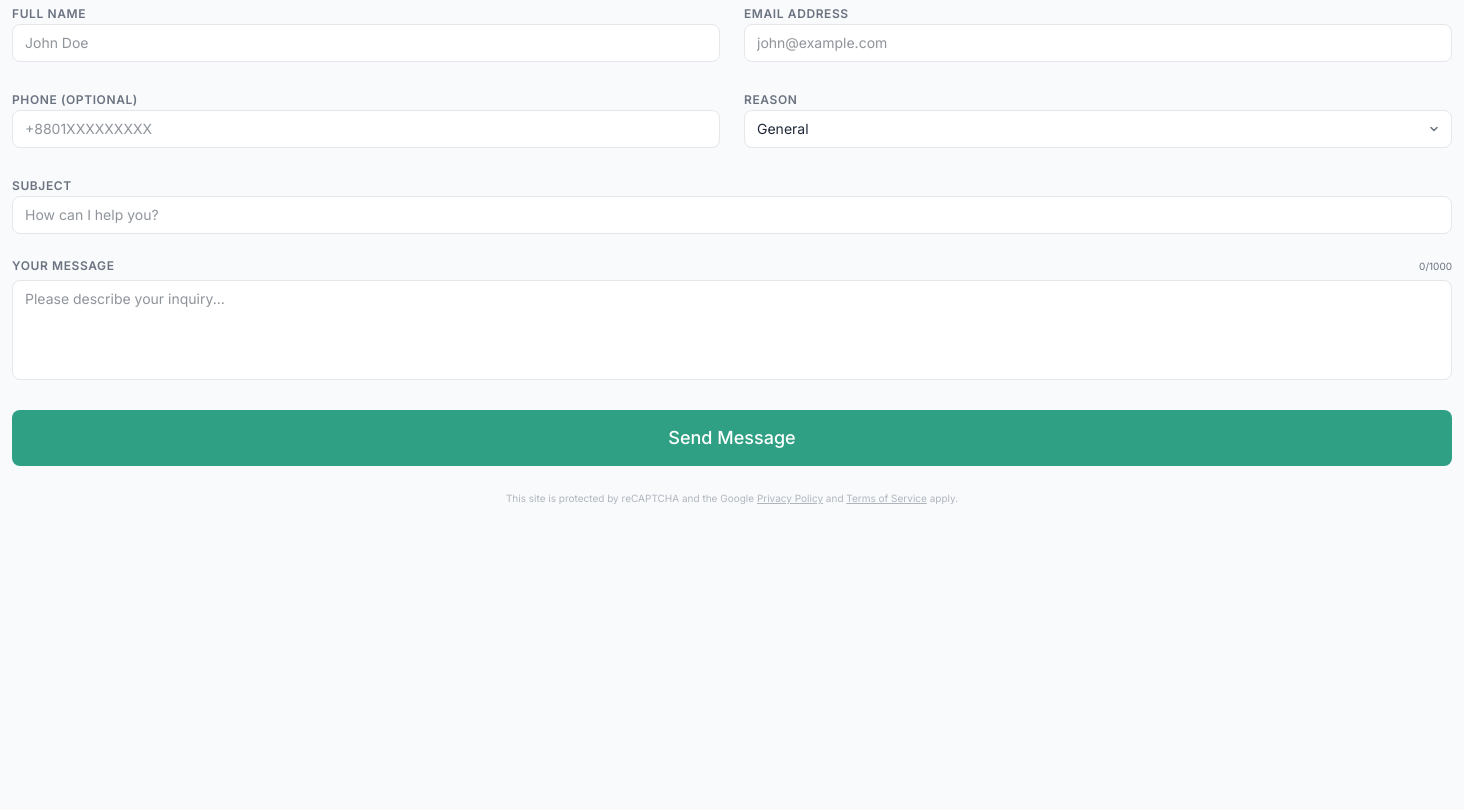
Test: ContactForm › shows error for short name
The width and height of the screenshot is (1464, 810).
Type "J" into the field labelled "Full Name". click: (366,43)
box: x1=12 y1=24 x2=720 y2=62
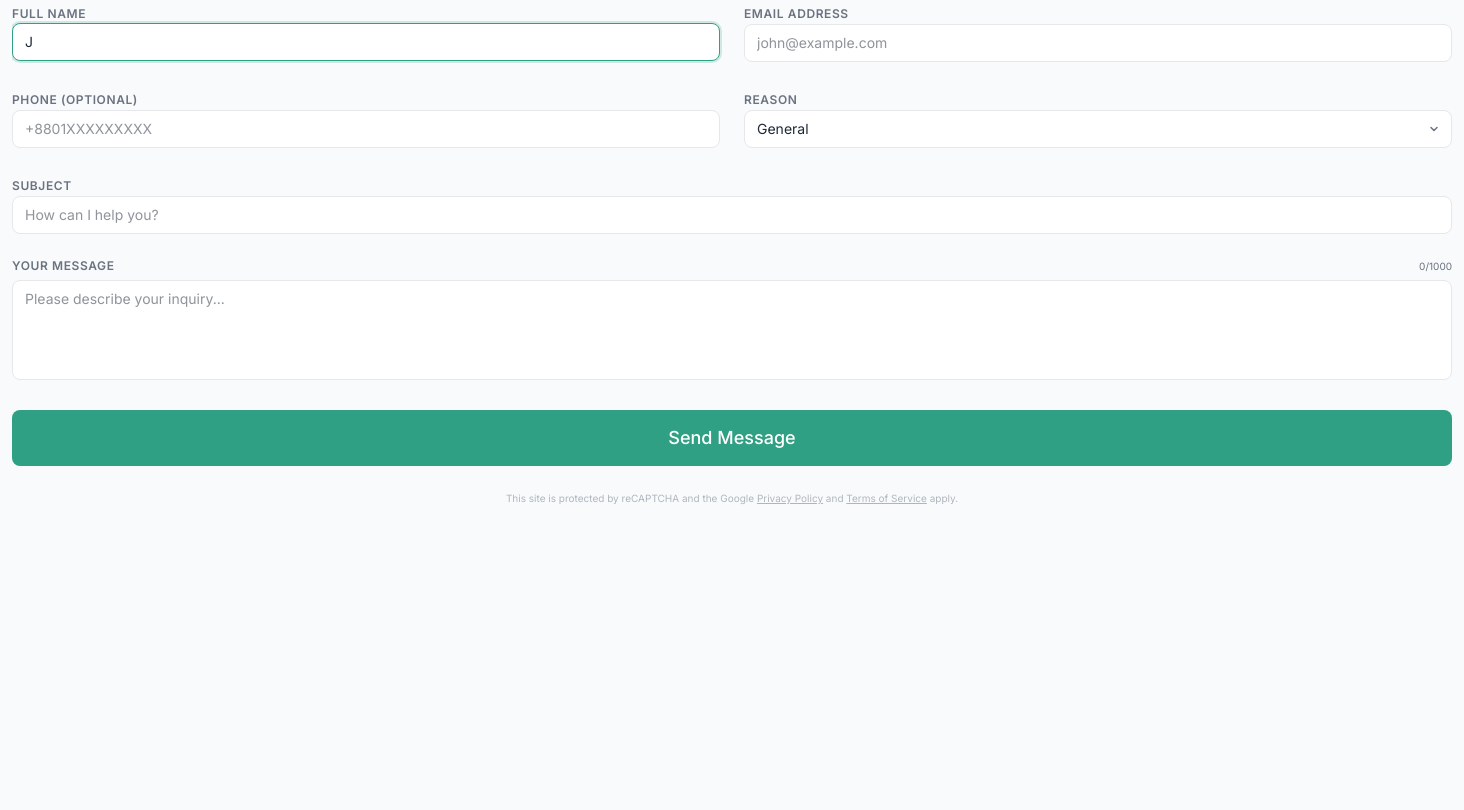
Click the button "Send Message". click: (732,438)
box: x1=12 y1=410 x2=1452 y2=466
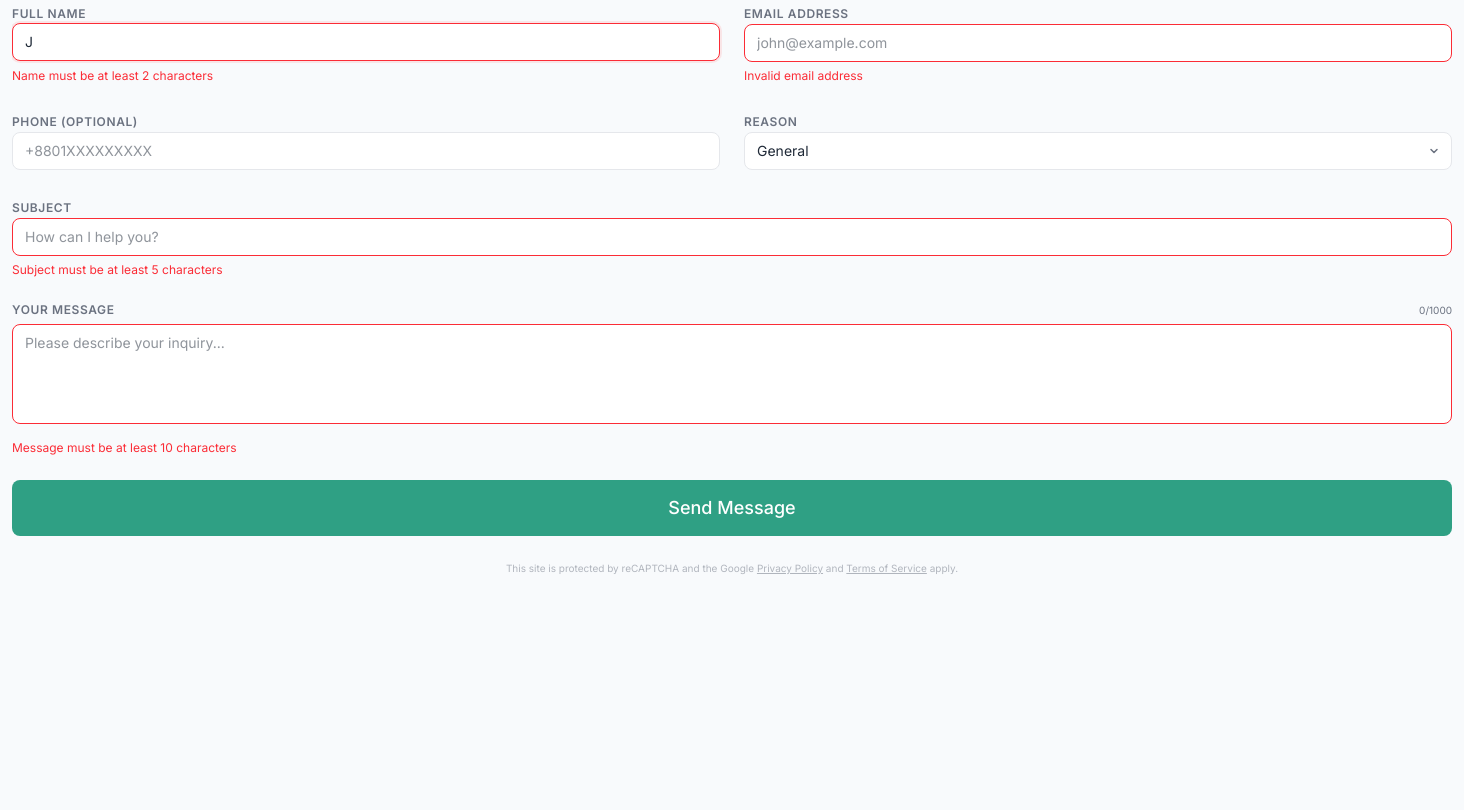
Expected: the text "Name must be at least 2 characters" is shown, x1=12 y1=68 x2=213 y2=83
